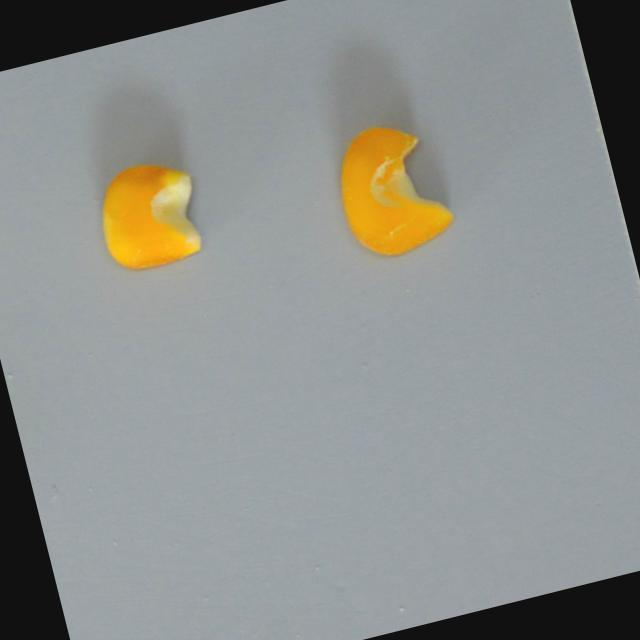no_canjicado: (324, 109, 458, 264), (87, 151, 211, 276)
